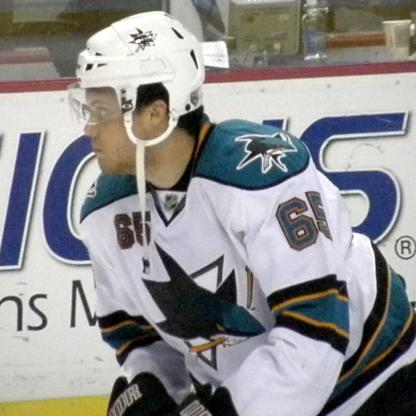Helmet: (65, 11, 213, 179)
